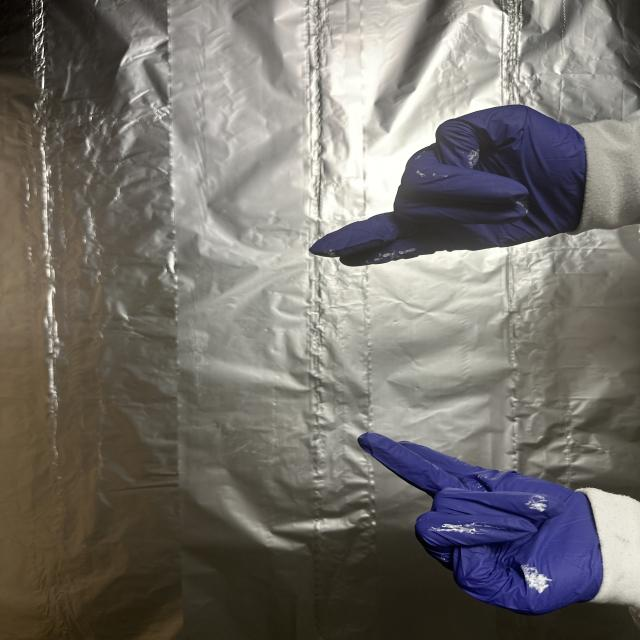gloves_contaminated: (358, 433, 603, 615), (310, 107, 585, 266)
